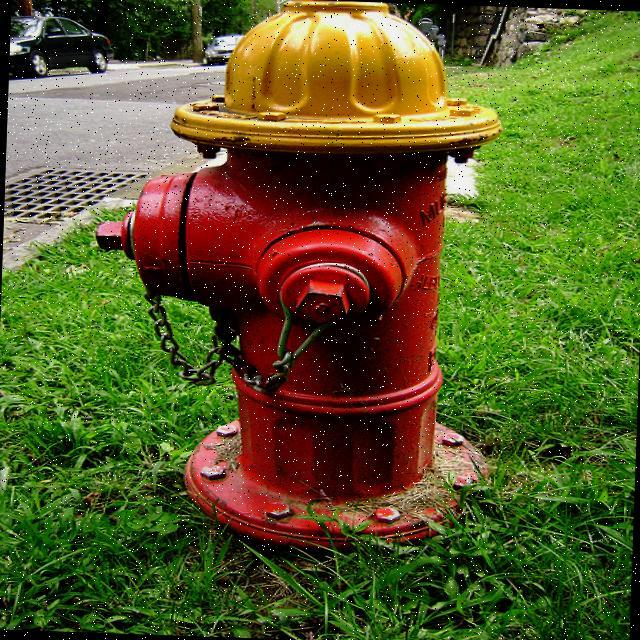fire_hydrant: (79, 0, 509, 546)
